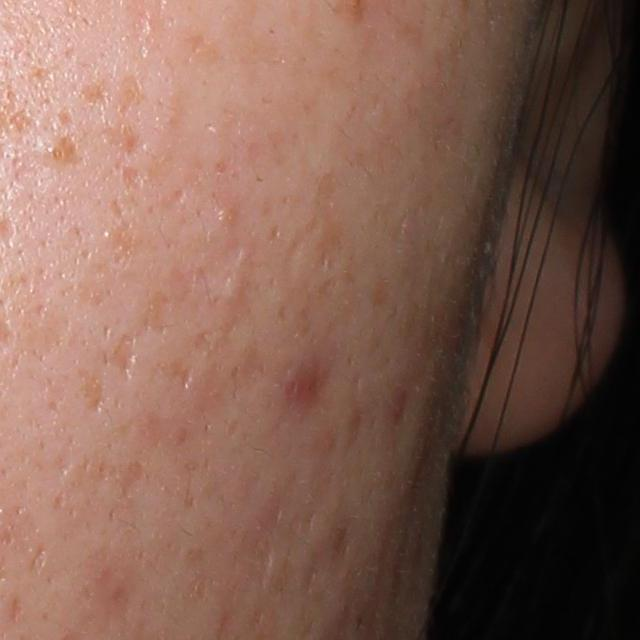atrophic_scar: (117, 458, 146, 502), (104, 332, 131, 376), (171, 359, 197, 392), (6, 590, 24, 626), (30, 544, 46, 577), (122, 162, 140, 191)
comedo: (34, 133, 75, 166)
papule: (278, 346, 333, 437)
